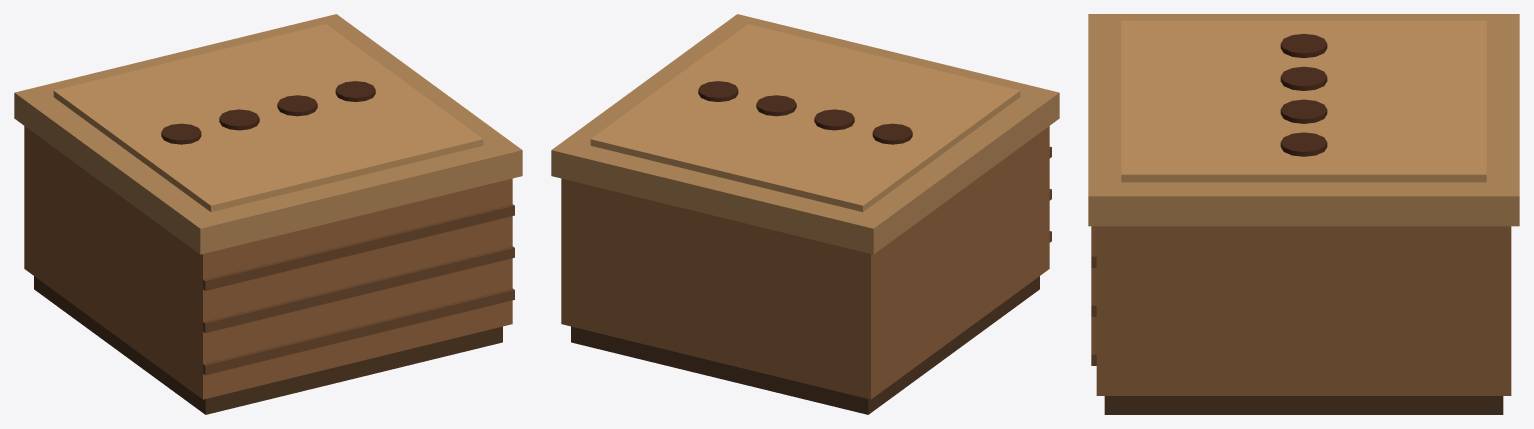
File: k_crate_4.glb
The picture shows the model from 3 angles, left to right: view 1: azimuth 30°, elevation 25°; view 2: azimuth 150°, elevation 25°; view 3: azimuth 270°, elevation 25°; orthographic projection. The views are drawn at different scales.
Visible parts, largest first — view 1: piece; view 2: piece; view 3: piece.
Part boxes in pixels (x1,y1,x2,y2): piece: (14,14,522,414); piece: (551,14,1059,414); piece: (1088,14,1519,414).
Size of the model in its own units: 1.04 by 0.6325 by 1.04.
